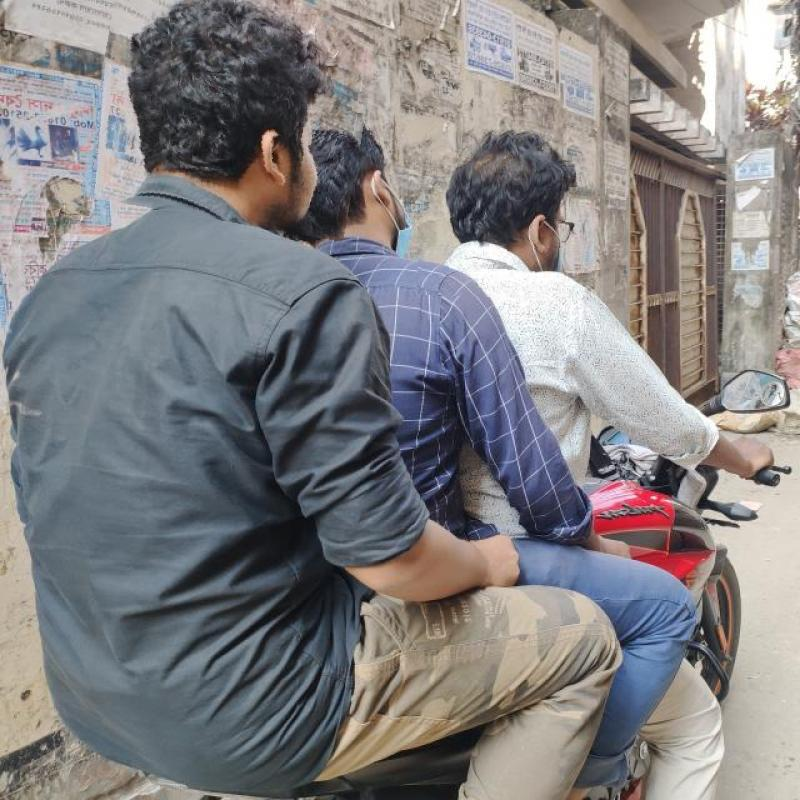nohelmet: (88, 0, 372, 230), (419, 81, 596, 299)
